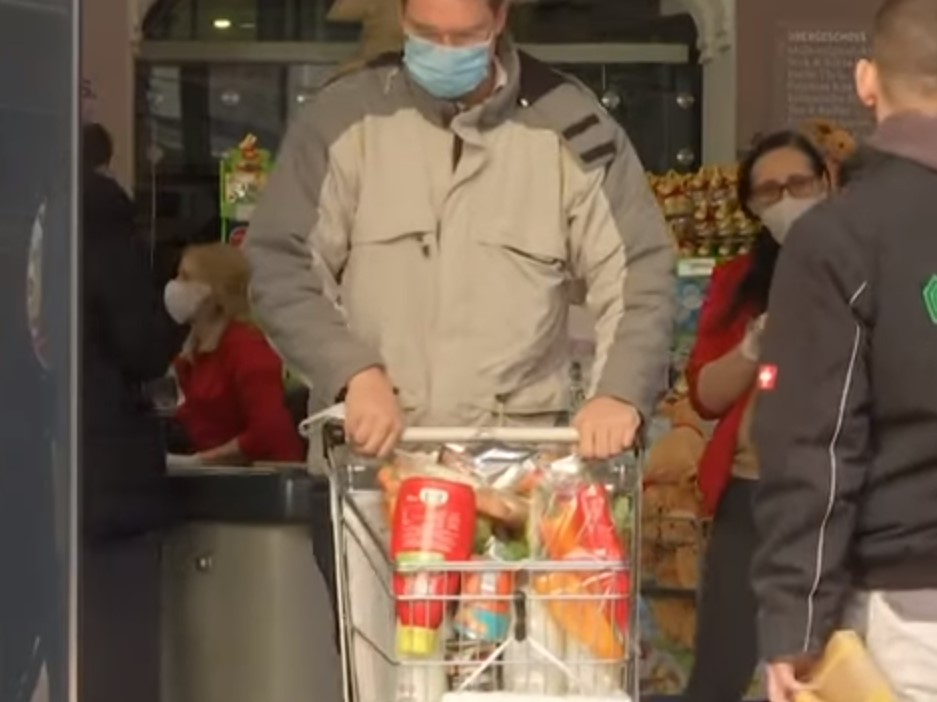face_with_mask: (390, 0, 513, 101), (735, 132, 839, 246), (164, 240, 247, 326)
